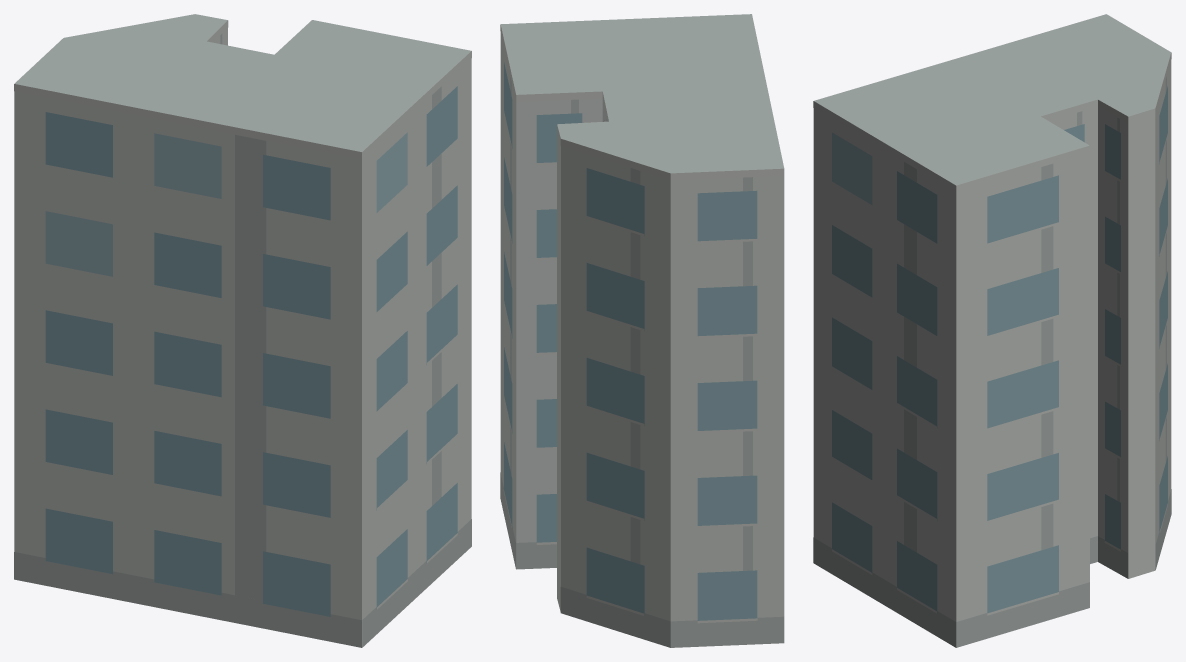
Rendered from survey-upis-32754879.glb.
3 views of the same model, side by side, from view 1: azimuth 30°, elevation 25°; view 2: azimuth 150°, elevation 25°; view 3: azimuth 270°, elevation 25° (orthographic). The views are drawn at different scales.
Visible parts, largest first — view 1: survey-upis-32754879.tmp; view 2: survey-upis-32754879.tmp; view 3: survey-upis-32754879.tmp.
Part boxes in pixels (x1=…): survey-upis-32754879.tmp: x1=14, y1=14, x2=471, y2=647; survey-upis-32754879.tmp: x1=500, y1=14, x2=784, y2=647; survey-upis-32754879.tmp: x1=813, y1=14, x2=1171, y2=647.
Bounding box in the file's own units: 12.86 × 16.15 × 11.34.
